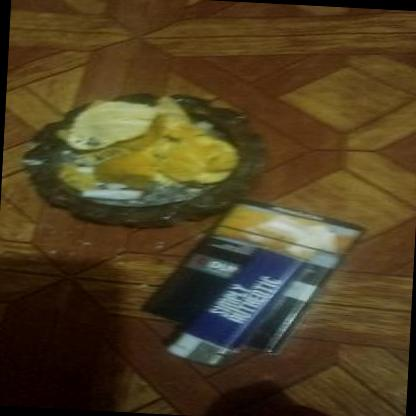objects: (141, 194, 364, 358)
